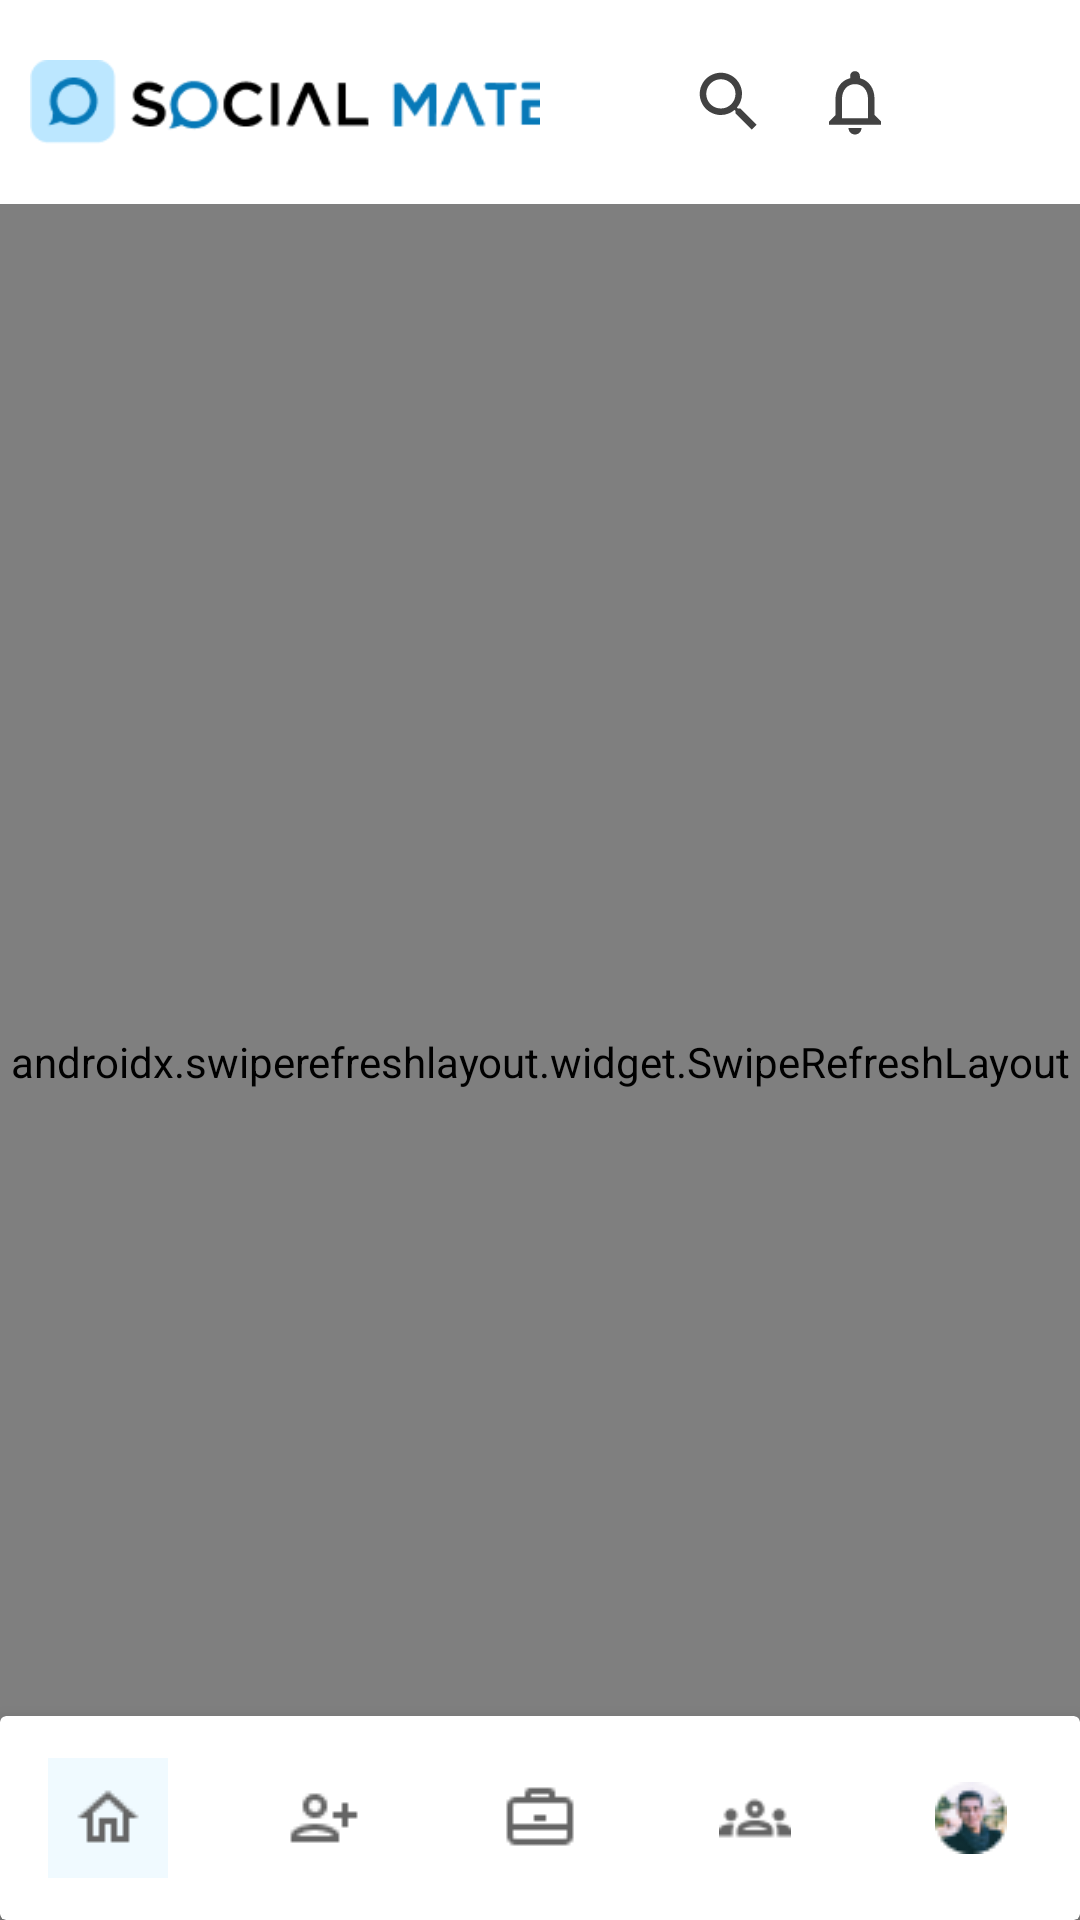

Named icons in this screenshot (1080 x 1920) and their bounding boxes, {"left": x1, "top": y1, "right": x2, "bottom": y2}:
avt: {"left": 935, "top": 1788, "right": 1007, "bottom": 1854}
briefcase: {"left": 506, "top": 1787, "right": 574, "bottom": 1846}
groups: {"left": 719, "top": 1798, "right": 791, "bottom": 1838}
home: {"left": 77, "top": 1790, "right": 139, "bottom": 1843}
notifications none: {"left": 829, "top": 71, "right": 881, "bottom": 135}
person add: {"left": 290, "top": 1793, "right": 358, "bottom": 1843}
search: {"left": 699, "top": 72, "right": 757, "bottom": 130}
